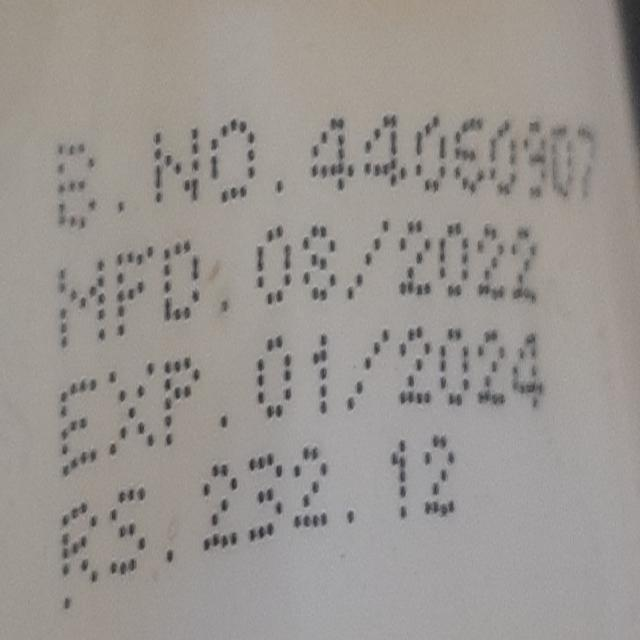sentence: (60, 321, 544, 476), (55, 112, 596, 230), (58, 219, 539, 348), (60, 433, 456, 587)
